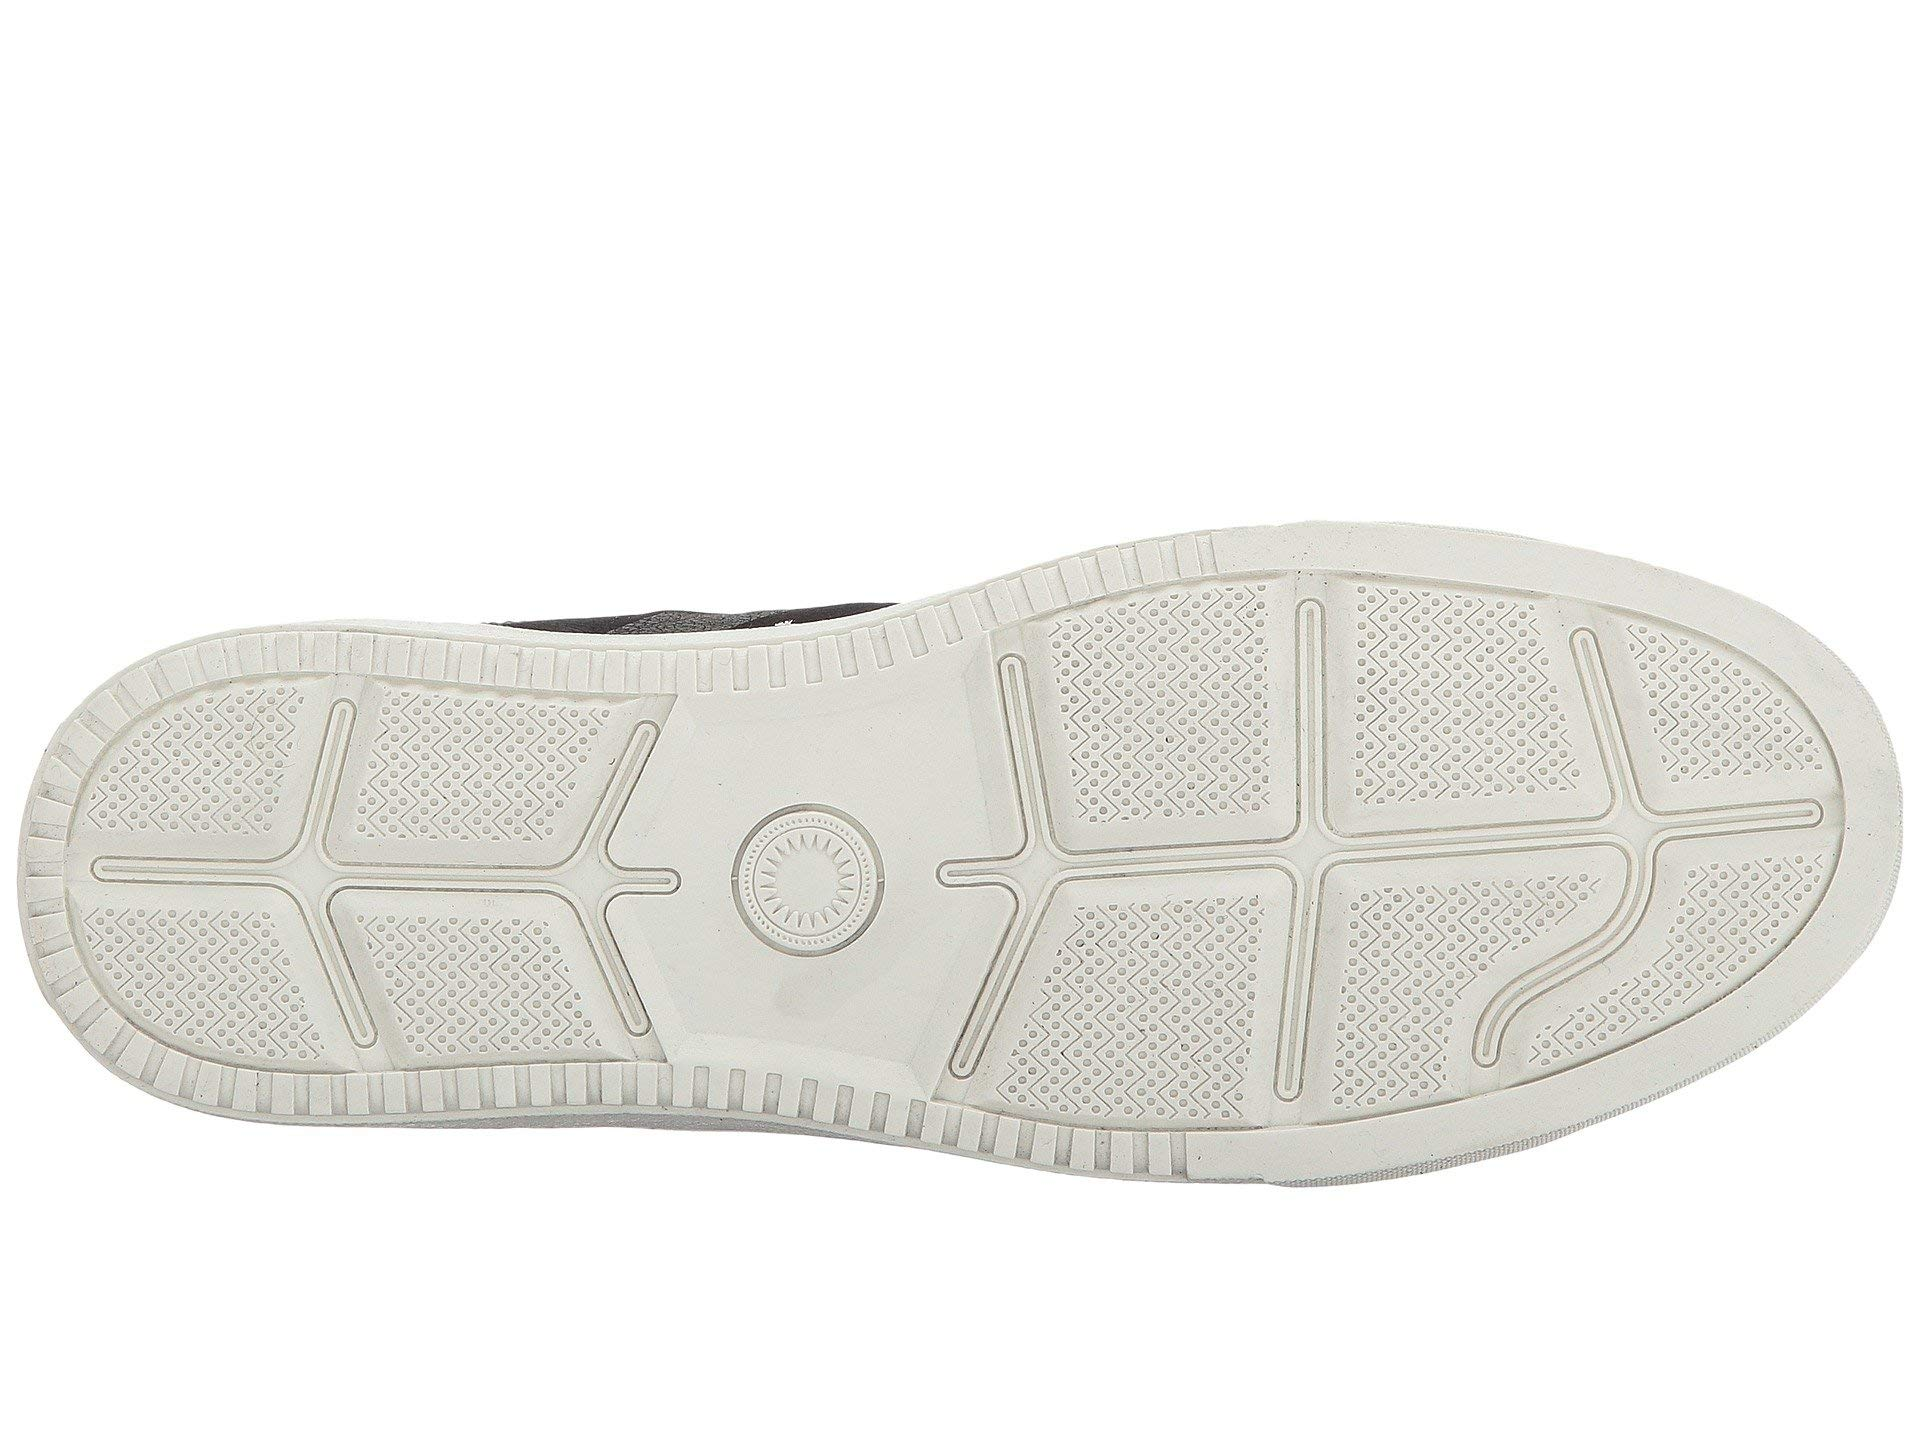chevron: (334, 877, 638, 1134), (1034, 629, 1255, 856), (1064, 930, 1243, 1109), (1324, 902, 1489, 1078), (390, 693, 544, 867), (1370, 629, 1519, 799)
circle: (334, 877, 638, 1134), (680, 759, 924, 988), (1034, 629, 1255, 856), (1064, 930, 1243, 1109), (1324, 902, 1489, 1078), (390, 693, 544, 867), (1370, 629, 1519, 799)
quad: (334, 877, 638, 1134)
star: (680, 759, 924, 988)
